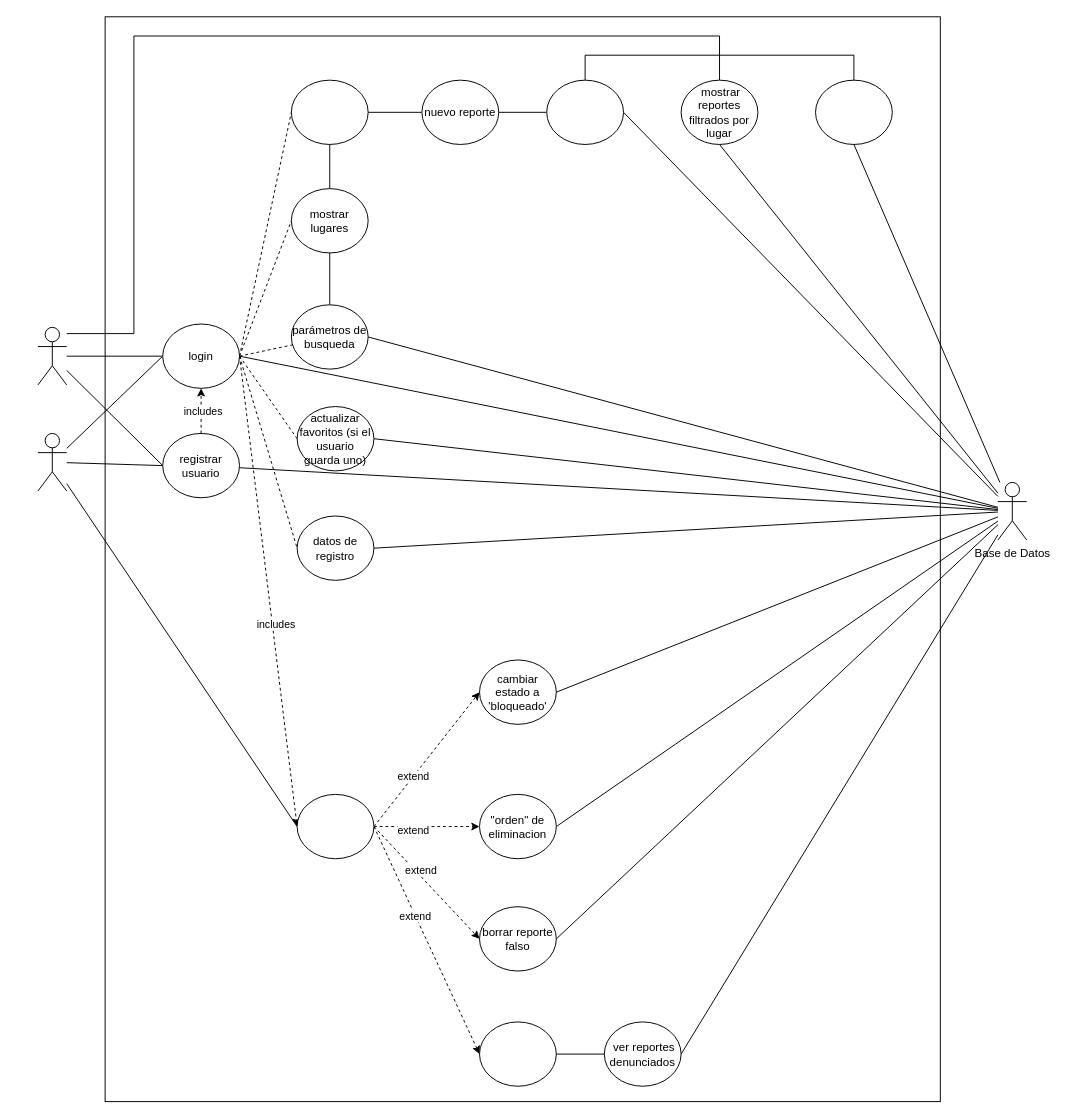
This 1067x1118 diagram has some shape labels left out. Each missing label, with the centre of its shape:
Administrador: the point at 52,461
administrar permisos: the point at 335,826
generar documento diario (cambios, acciones): the point at 853,111
mostrar reportes recientes: the point at 329,111
procesar lugar: the point at 585,111
Usuario: the point at 52,355
ver estadisticas generales: the point at 517,1053
